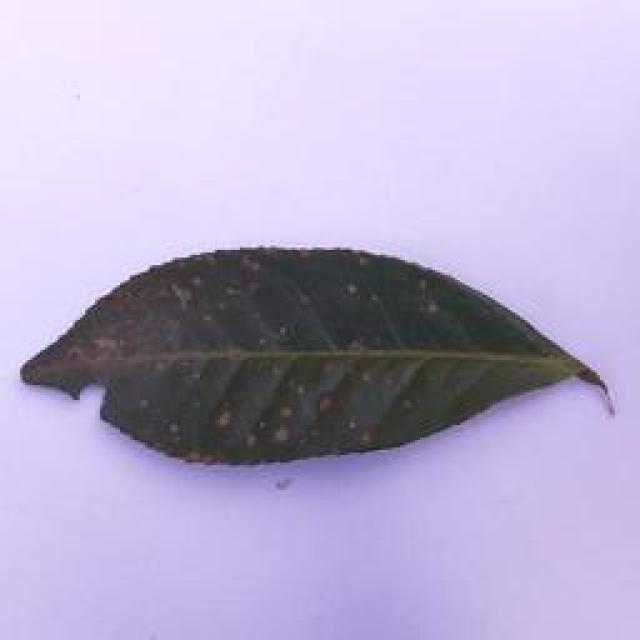Algal Leaf Spot: (26, 239, 620, 473)
